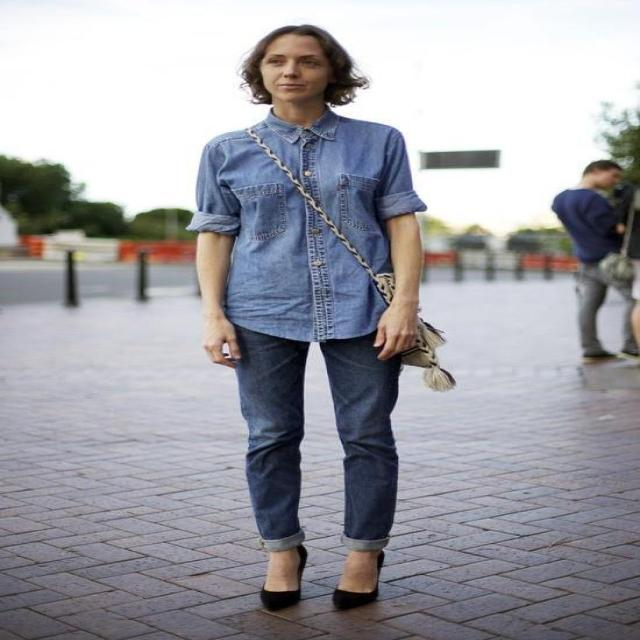pants: (234, 306, 400, 554)
shirt: (185, 106, 428, 342)
